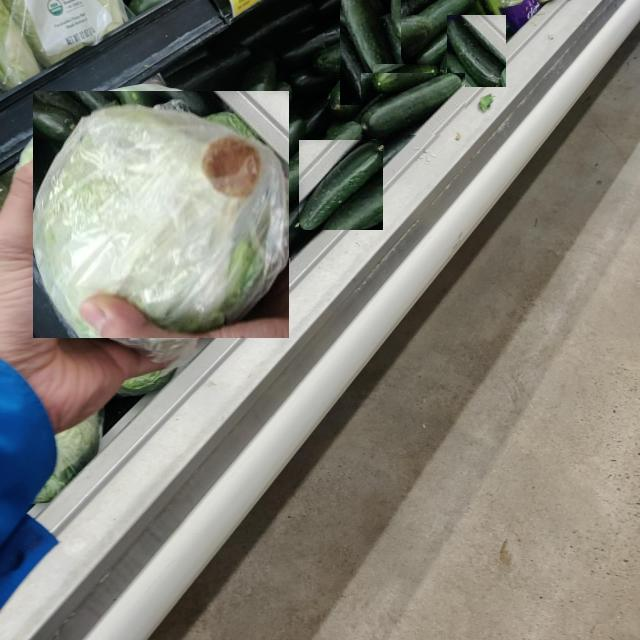Cucumber: (299, 139, 383, 230), (341, 0, 401, 105), (362, 74, 465, 135), (448, 14, 506, 87), (372, 64, 440, 91)
Lettuce: (33, 90, 289, 338)
